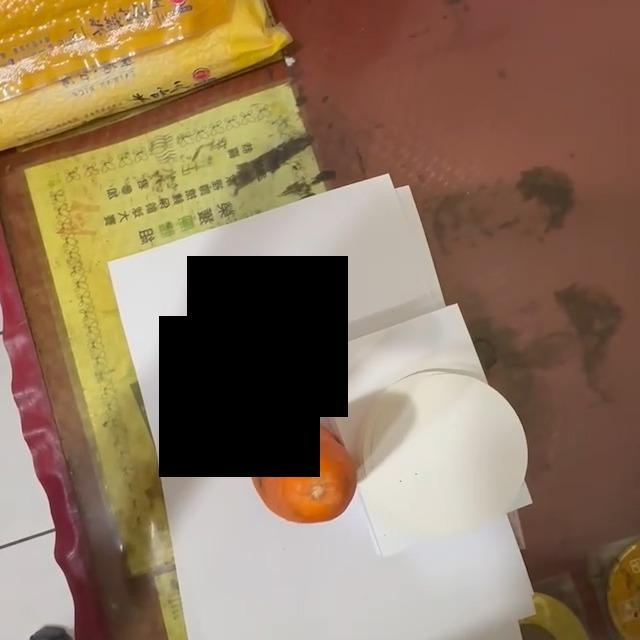carrot: (248, 418, 358, 527)
